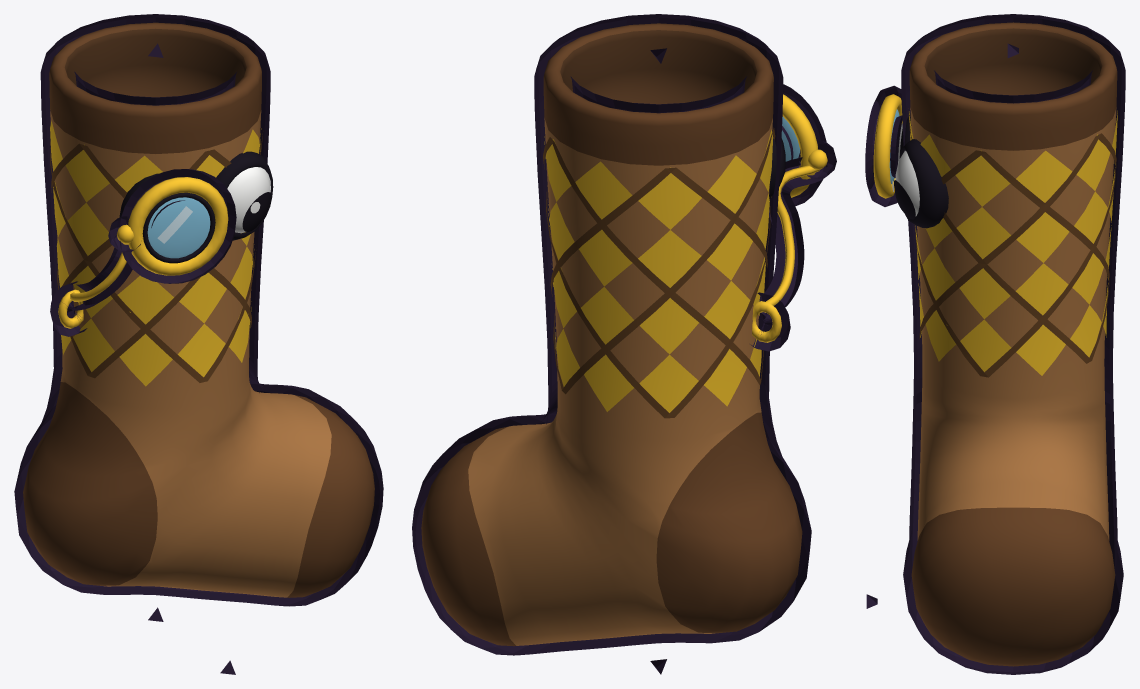
Rendered from Argylo_R.glb.
3 renders of one model, left to right at view 1: azimuth 30°, elevation 25°; view 2: azimuth 150°, elevation 25°; view 3: azimuth 270°, elevation 25°, orthographic. The views are drawn at different scales.
Parts seen in each view (by area): view 1: Argylo_R, Argylo_R_Outline; view 2: Argylo_R, Argylo_R_Outline; view 3: Argylo_R, Argylo_R_Outline.
Boxes of the visible parts, x1=… form: Argylo_R: x1=23, y1=22, x2=374, y2=597; Argylo_R_Outline: x1=14, y1=14, x2=383, y2=606; Argylo_R: x1=421, y1=23, x2=827, y2=646; Argylo_R_Outline: x1=412, y1=14, x2=836, y2=655; Argylo_R: x1=873, y1=22, x2=1117, y2=666; Argylo_R_Outline: x1=865, y1=14, x2=1125, y2=674.
Bounding box in the file's own units: 2.68 × 4.4 × 1.84.
1 material, 1 textured.
